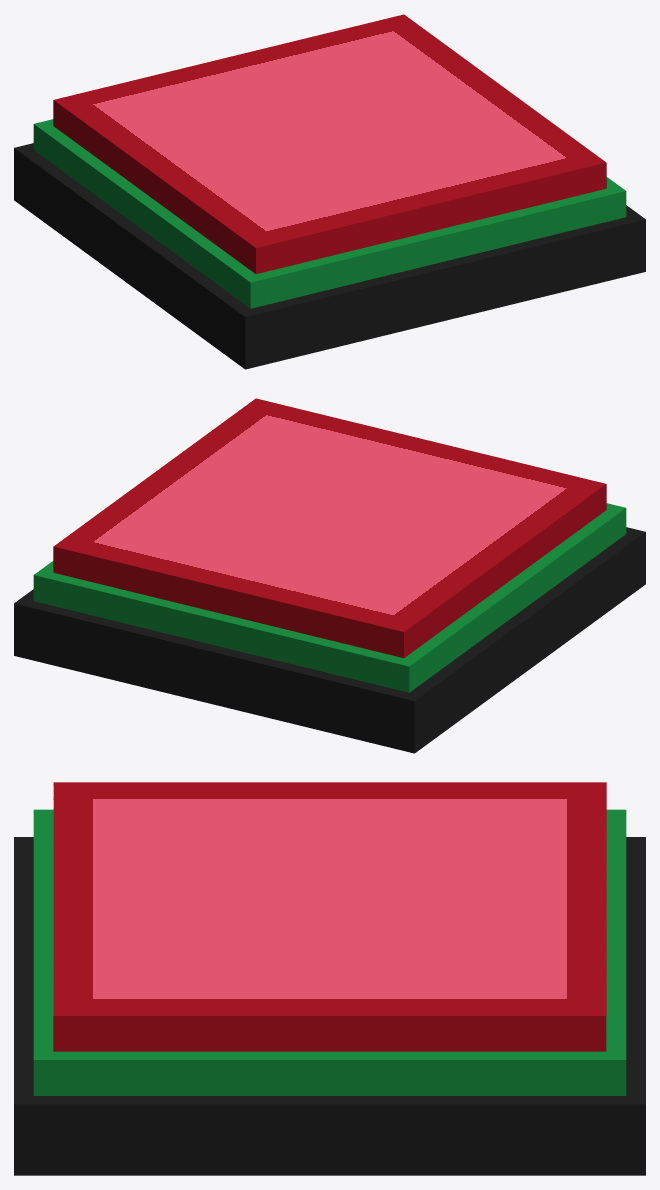
The model's file is heavydutysuperbutton.gltf.
The picture shows the model from 3 angles, top to bottom: view 1: azimuth 30°, elevation 25°; view 2: azimuth 150°, elevation 25°; view 3: azimuth 270°, elevation 25°; orthographic projection. The views are drawn at different scales.
Visible parts, largest first — view 1: panel_red, mesh, panel_green; view 2: panel_red, mesh, panel_green; view 3: panel_red, mesh, panel_green.
Boxes of the visible parts, x1,y1,x2,y2 form: panel_red: [53, 14, 606, 273]; mesh: [14, 143, 645, 369]; panel_green: [33, 119, 626, 308]; panel_red: [53, 398, 606, 657]; mesh: [14, 527, 645, 753]; panel_green: [33, 503, 626, 692]; panel_red: [53, 782, 606, 1051]; mesh: [14, 837, 645, 1175]; panel_green: [33, 809, 626, 1095].
Size of the model in its own units: 1 by 0.25 by 1.
Materials: 1 (1 with a texture image).
